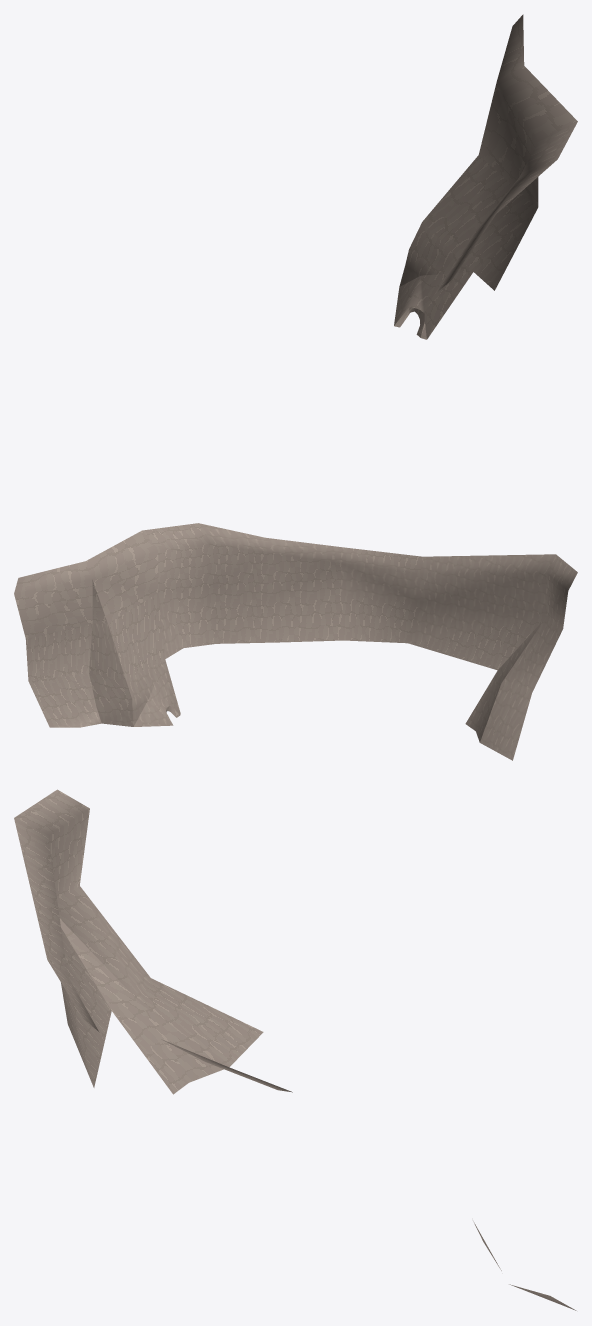
File: kd_stage_136282_2_18.glb
3 views of the same model, one above another, from view 1: azimuth 30°, elevation 25°; view 2: azimuth 150°, elevation 25°; view 3: azimuth 270°, elevation 25° (orthographic). The views are drawn at different scales.
Visible parts, largest first — view 1: kd_stage_136282_2_18; view 2: kd_stage_136282_2_18; view 3: kd_stage_136282_2_18.
Part boxes in pixels (x1=…): kd_stage_136282_2_18: x1=394, y1=14, x2=577, y2=339; kd_stage_136282_2_18: x1=14, y1=523, x2=577, y2=760; kd_stage_136282_2_18: x1=14, y1=789, x2=576, y2=1310.
Size of the model in its own units: 154 by 51.57 by 109.
1 material, 1 textured.
